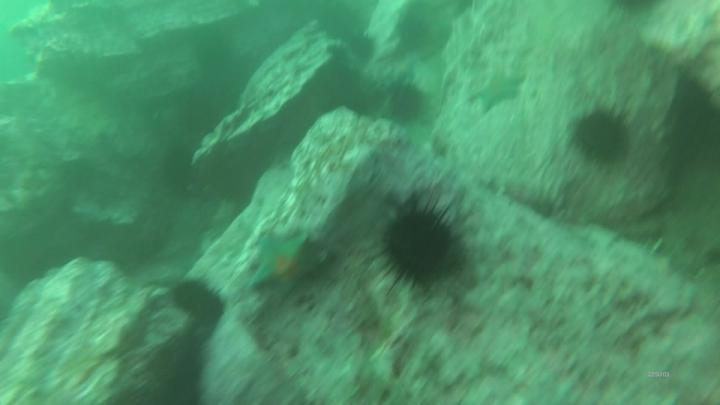echinus: (368, 194, 464, 292), (570, 103, 634, 171), (168, 277, 231, 325), (160, 143, 200, 203), (383, 82, 430, 128), (195, 34, 240, 80), (609, 1, 664, 21), (346, 33, 381, 64)
starfish: (249, 235, 320, 302), (467, 69, 528, 118)
